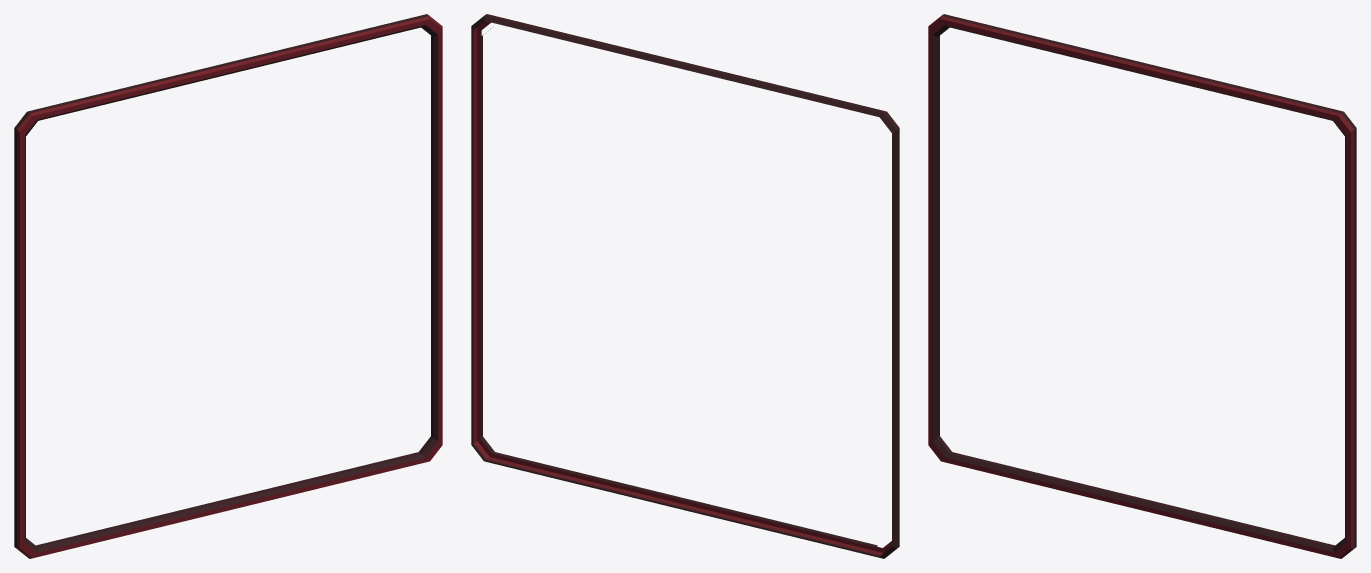
Rendered from square_rim.glb.
3 renders of one model, left to right at view 1: azimuth 30°, elevation 25°; view 2: azimuth 150°, elevation 25°; view 3: azimuth 330°, elevation 25°, orthographic.
Parts seen in each view (by area): view 1: square; view 2: square; view 3: square.
Part boxes in pixels (x1,y1,x2,y2): square: [14, 14, 442, 558]; square: [471, 14, 899, 558]; square: [928, 14, 1356, 558].
Size of the model in its own units: 0.282 by 0.282 by 0.007.
